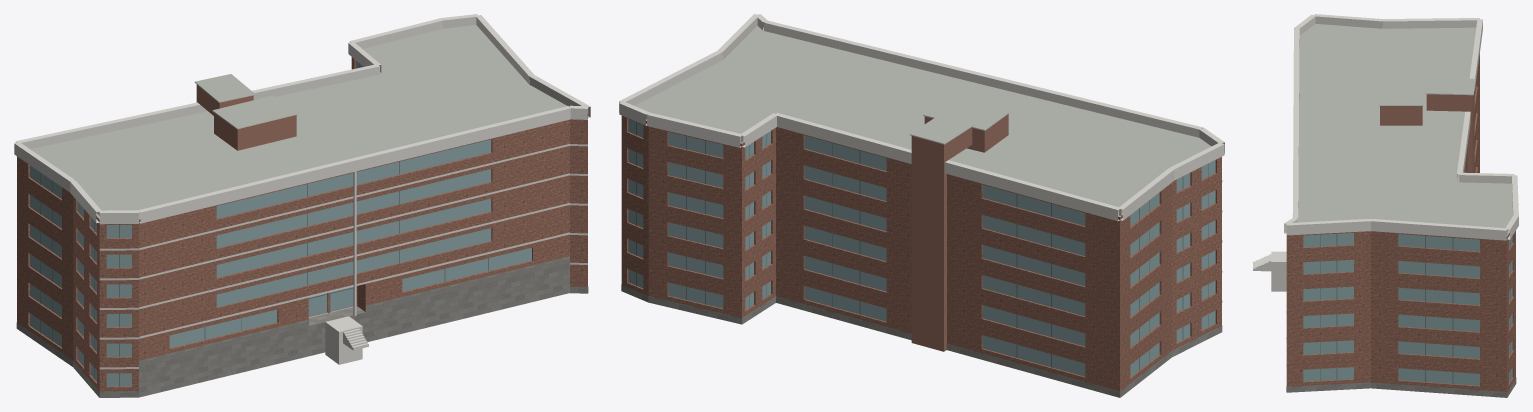
The picture shows the model from 3 angles, left to right: view 1: azimuth 30°, elevation 25°; view 2: azimuth 150°, elevation 25°; view 3: azimuth 270°, elevation 25°; orthographic projection. The views are drawn at different scales.
Visible parts, largest first — view 1: hum2__wall, hum2__roof, hum2__glass, hum2__trim, hum2__base, hum2__wall2, hum2__entranceStair, hum2__frame; view 2: hum2__wall, hum2__roof, hum2__glass, hum2__trim, hum2__wall2, hum2__base, hum2__frame; view 3: hum2__roof, hum2__wall, hum2__glass, hum2__trim, hum2__wall2, hum2__base, hum2__entranceStair, hum2__frame.
Boxes of the visible parts, x1=… form: hum2__wall: x1=17, y1=57, x2=587, y2=397; hum2__roof: x1=30, y1=25, x2=569, y2=397; hum2__glass: x1=30, y1=61, x2=531, y2=386; hum2__trim: x1=14, y1=14, x2=590, y2=369; hum2__base: x1=16, y1=256, x2=588, y2=397; hum2__wall2: x1=196, y1=84, x2=296, y2=150; hum2__entranceStair: x1=325, y1=316, x2=368, y2=364; hum2__frame: x1=40, y1=64, x2=488, y2=386; hum2__wall: x1=621, y1=116, x2=1221, y2=397; hum2__roof: x1=634, y1=26, x2=1211, y2=216; hum2__glass: x1=628, y1=119, x2=1215, y2=377; hum2__trim: x1=619, y1=14, x2=1224, y2=302; hum2__wall2: x1=911, y1=114, x2=1008, y2=351; hum2__base: x1=621, y1=284, x2=1222, y2=397; hum2__frame: x1=636, y1=122, x2=1208, y2=370; hum2__roof: x1=1296, y1=24, x2=1512, y2=236; hum2__wall: x1=1286, y1=53, x2=1515, y2=397; hum2__glass: x1=1303, y1=233, x2=1512, y2=385; hum2__trim: x1=1284, y1=14, x2=1518, y2=365; hum2__wall2: x1=1380, y1=90, x2=1474, y2=172; hum2__base: x1=1286, y1=377, x2=1516, y2=397; hum2__entranceStair: x1=1253, y1=251, x2=1286, y2=291; hum2__frame: x1=1320, y1=234, x2=1510, y2=383.
Size of the model in its own units: 62.33 by 25.29 by 32.33.
Materials: 9 (2 with a texture image).
